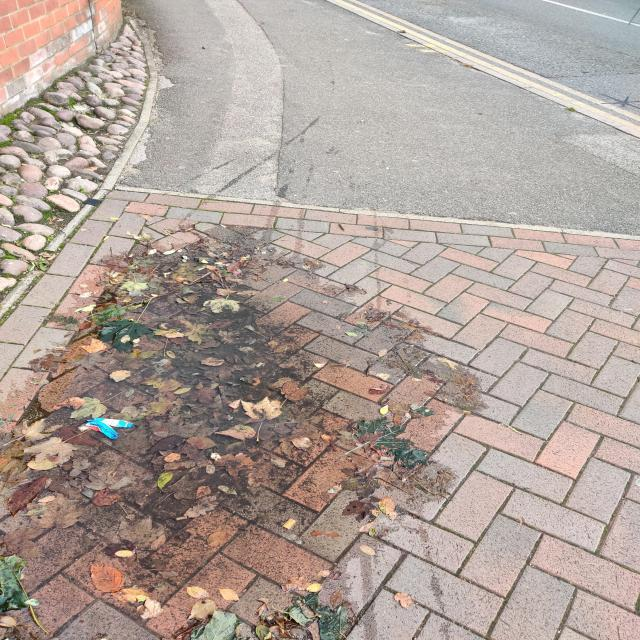litter: (83, 415, 136, 440)
